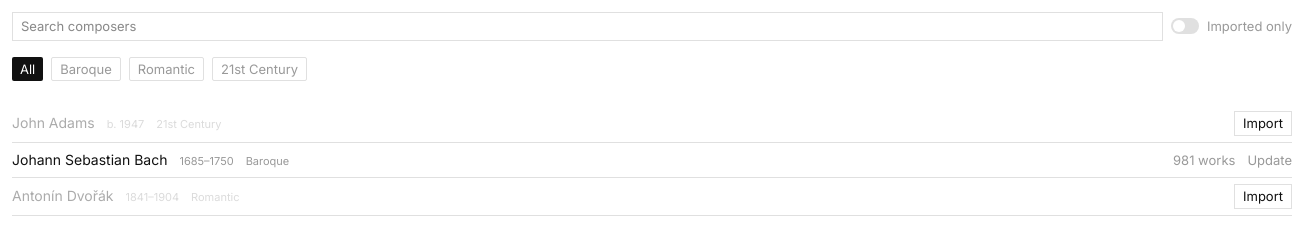
LibraryBrowser › says when MusicBrainz doesn't know the composer
Click the button with aria-label "Import Antonín Dvořák". click: (1263, 196)
box: [1234,184,1292,209]
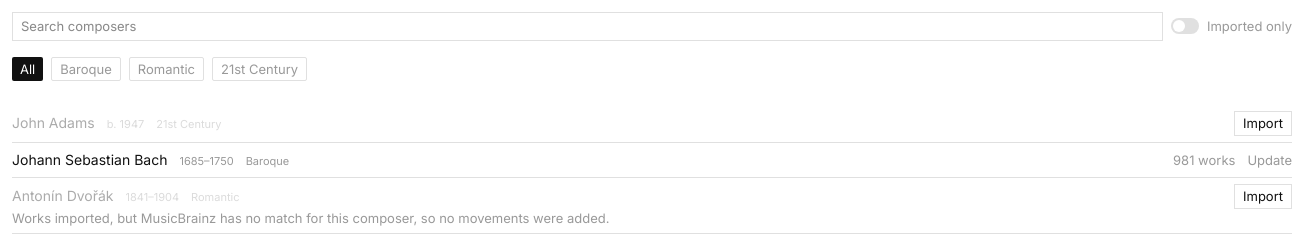
Check: the text "Works imported, but MusicBrainz has no match for this composer, so no movements were added." is shown, box [12,210,610,226]
